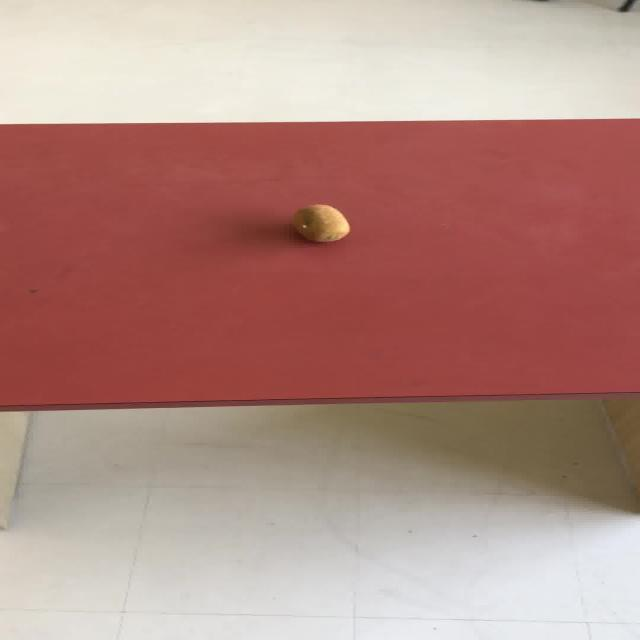kiwi: (292, 203, 349, 242)
